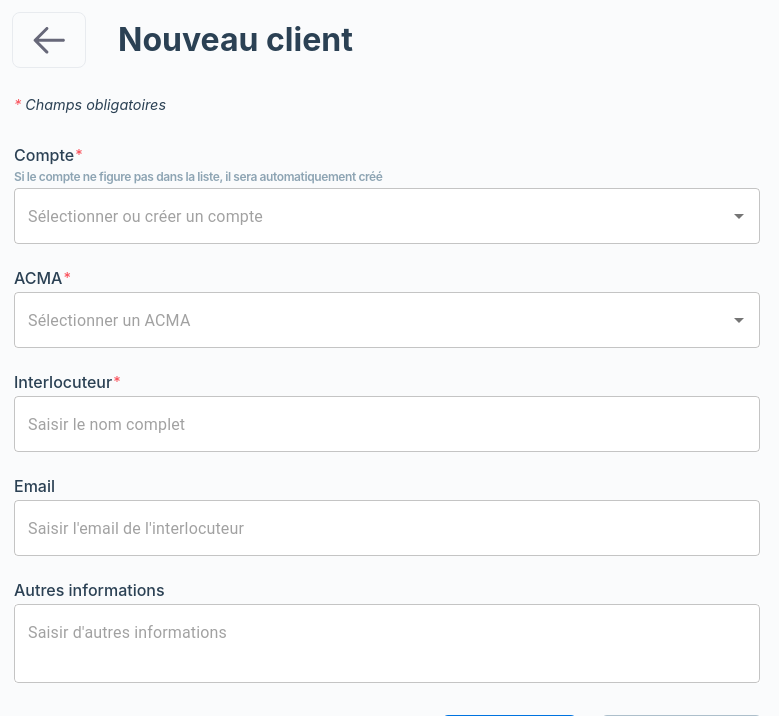
Test: the client creation page › should display an alert if there was an error creating client
Step 1. Type "Chanel" into the dropdown labelled "Compte" → (372, 216), box [23,197,721,235]
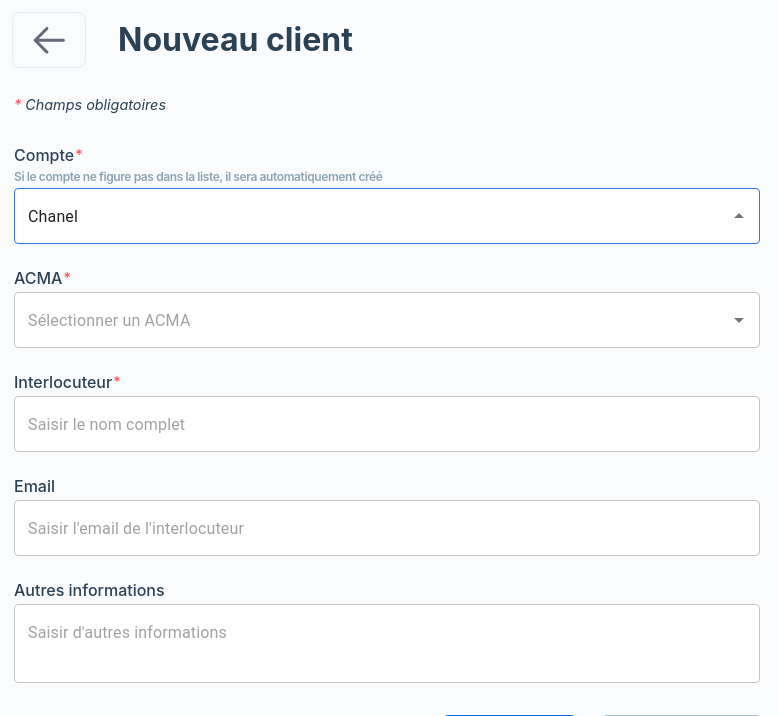
Step 2. Type "yannock labanniere" into the field labelled "Interlocuteur" → (387, 424), box [14,396,760,452]
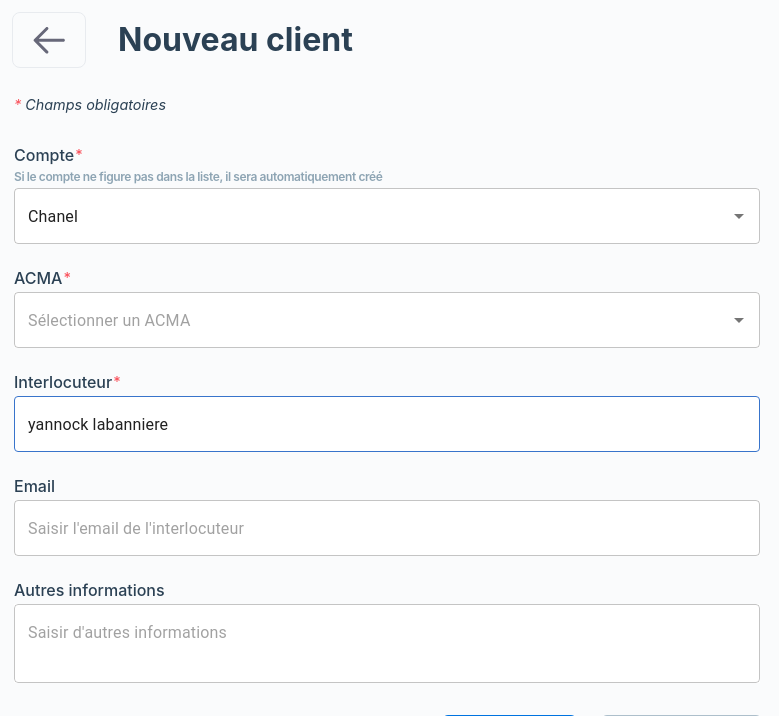
Step 3. Type "michael@dundermifflin.com" into the field labelled "Email" → (387, 528), box [14,500,760,556]
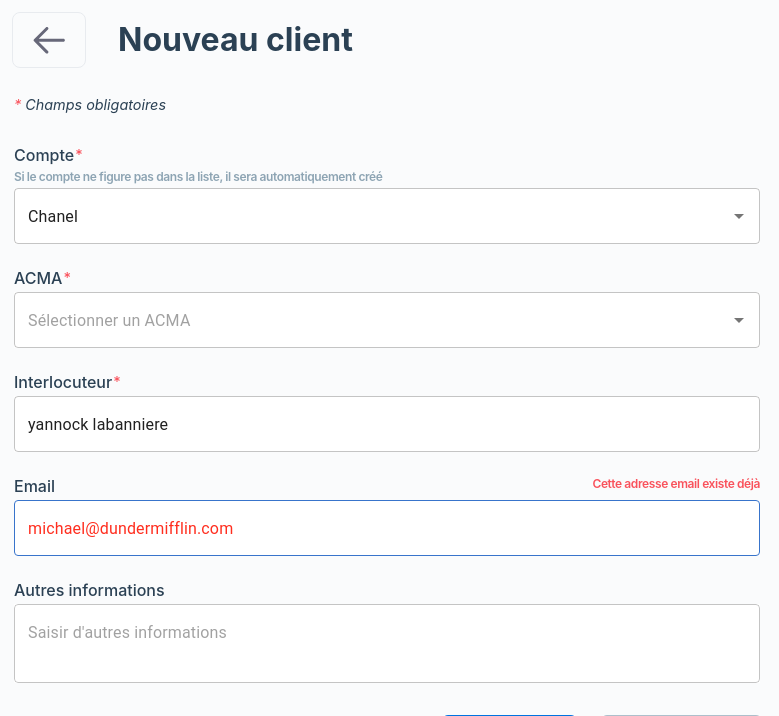
Check: the text "Cette adresse email existe déjà" is shown, box [592,476,760,496]
